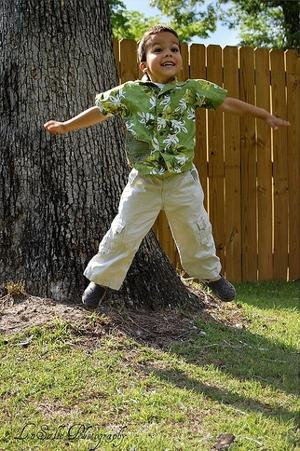person: (43, 23, 291, 312)
